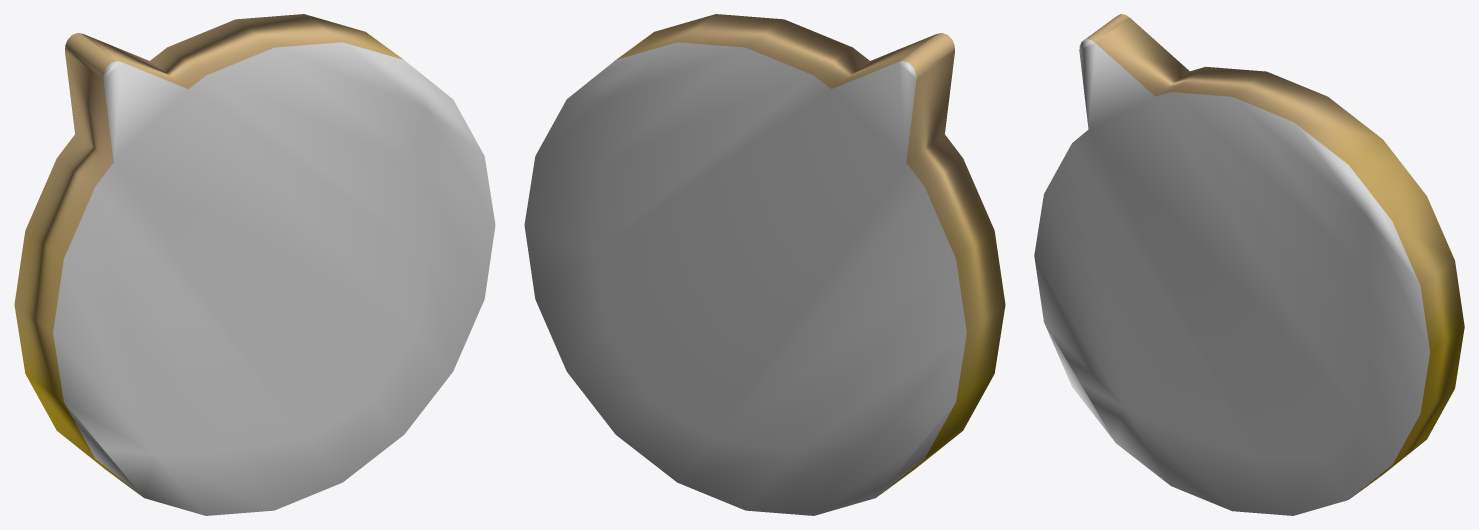
Rendered from PartySuppliesSign (Light).glb.
The picture shows the model from 3 angles, left to right: view 1: azimuth 30°, elevation 25°; view 2: azimuth 150°, elevation 25°; view 3: azimuth 330°, elevation 25°; orthographic projection. The views are drawn at different scales.
Parts seen in each view (by area): view 1: PartySuppliesSign (Light); view 2: PartySuppliesSign (Light); view 3: PartySuppliesSign (Light).
Part boxes in pixels (x1,y1,x2,y2): PartySuppliesSign (Light): (14, 14, 495, 515); PartySuppliesSign (Light): (524, 14, 1005, 515); PartySuppliesSign (Light): (1034, 14, 1464, 515).
Bounding box in the file's own units: 0.861 × 0.9075 × 0.1301.
